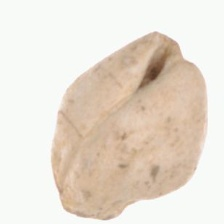L1: (142, 29, 199, 88), (57, 195, 118, 220)
L2: (51, 30, 209, 220)
